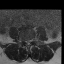CCS_normal: (27, 38, 29, 46)
LFS_normal: (30, 37, 32, 43)
LLS_normal: (28, 38, 30, 45)
RFS_normal: (23, 38, 25, 43)
RLS_normal: (25, 38, 27, 45)
